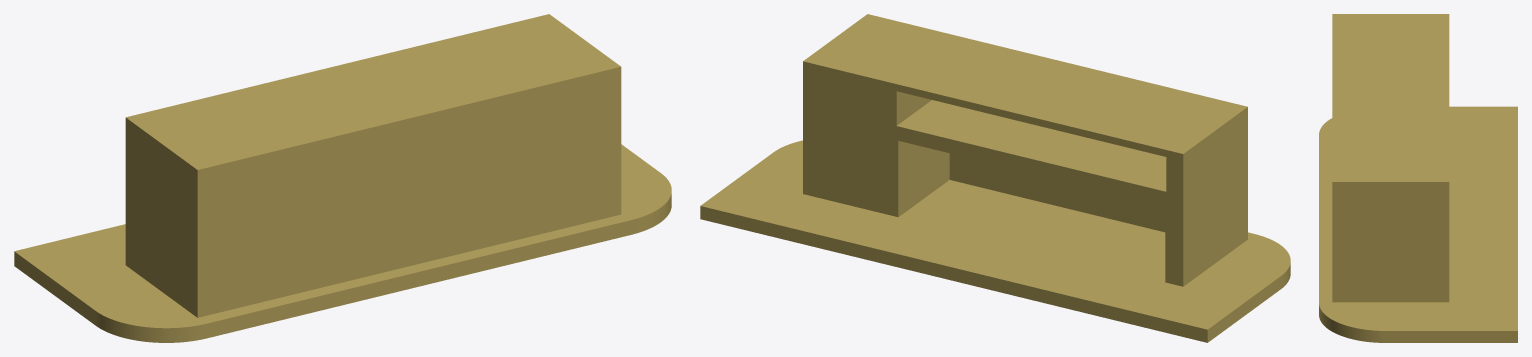
File: lecture_theater_platform.dae
The picture shows the model from 3 angles, left to right: view 1: azimuth 30°, elevation 25°; view 2: azimuth 150°, elevation 25°; view 3: azimuth 270°, elevation 25°; orthographic projection. The views are drawn at different scales.
Parts seen in each view (by area): view 1: node0; view 2: node0; view 3: node0.
Part boxes in pixels (bbox=[...]): node0: bbox=[14, 14, 671, 342]; node0: bbox=[700, 14, 1290, 342]; node0: bbox=[1319, 14, 1517, 342].
Size of the model in its own units: 4 by 1.5 by 1.1.
